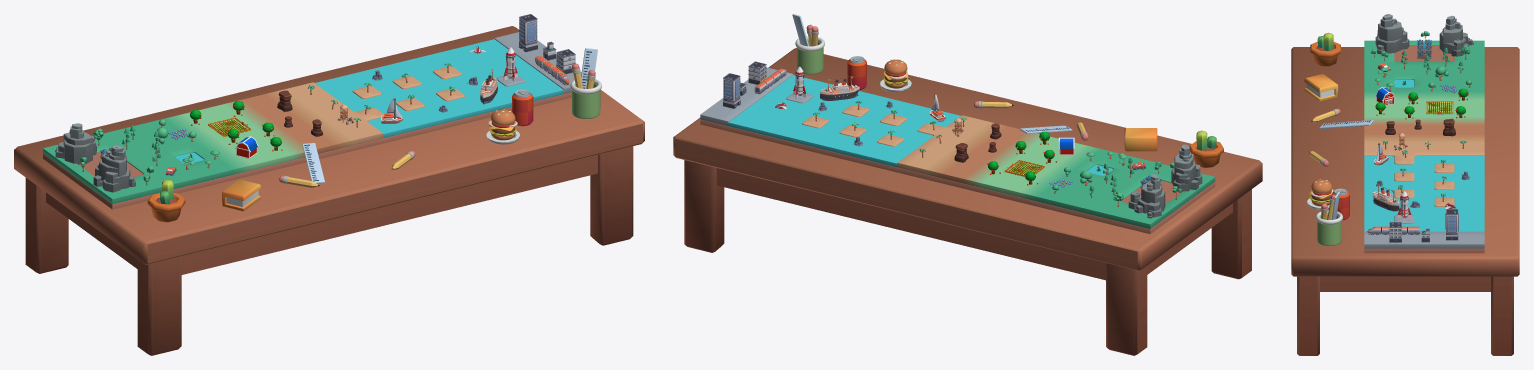
File: PortfolioPreview-transformed.glb
3 views of the same model, side by side, from view 1: azimuth 30°, elevation 25°; view 2: azimuth 150°, elevation 25°; view 3: azimuth 270°, elevation 25° (orthographic). The views are drawn at different scales.
Visible parts, largest first — view 1: cactus_small_B, square_forest_detail_(-3, 0, -12), Rock_1_J_Color1, Righe, Farm_House_Barn_01, square_forestToPlain_detail_(2, 0, -6), building-skyscraper-a, square_rockToSand_detail_(2, 0, -1), square_plainToRock_detail_(2, 0, -3), food_burger, ship-ocean-liner-small, Can_B (+2 smaller); view 2: cactus_small_B, square_forest_detail_(-3, 0, -12), Rock_1_J_Color1, Righe, Farm_House_Barn_01, square_forestToPlain_detail_(2, 0, -6), square_plainToRock_detail_(2, 0, -3), square_rockToSand_detail_(2, 0, -1), building-skyscraper-a, ship-ocean-liner-small, food_burger, Can_B (+2 smaller); view 3: cactus_small_B, square_forest_detail_(-3, 0, -12), Rock_1_J_Color1, Righe, Farm_House_Barn_01, square_rockToSand_detail_(2, 0, -1), square_plainToRock_detail_(2, 0, -3), building-skyscraper-a, square_forestToPlain_detail_(2, 0, -6), ship-ocean-liner-small, food_burger, palm-detailed-straight (+4 smaller).
Part boxes in pixels (bbox=[...]): cactus_small_B: bbox=[14, 26, 644, 355]; square_forest_detail_(-3, 0, -12): bbox=[43, 32, 581, 209]; Rock_1_J_Color1: bbox=[55, 119, 219, 192]; Righe: bbox=[279, 48, 601, 187]; Farm_House_Barn_01: bbox=[190, 101, 282, 158]; square_forestToPlain_detail_(2, 0, -6): bbox=[164, 114, 252, 174]; building-skyscraper-a: bbox=[519, 14, 575, 74]; square_rockToSand_detail_(2, 0, -1): bbox=[264, 89, 353, 150]; square_plainToRock_detail_(2, 0, -3): bbox=[224, 99, 305, 159]; food_burger: bbox=[486, 109, 520, 144]; ship-ocean-liner-small: bbox=[381, 69, 497, 123]; Can_B: bbox=[512, 89, 533, 126]; cactus_small_B: bbox=[673, 47, 1262, 355]; square_forest_detail_(-3, 0, -12): bbox=[700, 66, 1215, 233]; Rock_1_J_Color1: bbox=[1052, 144, 1202, 218]; Righe: bbox=[792, 14, 1088, 140]; Farm_House_Barn_01: bbox=[987, 131, 1074, 185]; square_forestToPlain_detail_(2, 0, -6): bbox=[1019, 145, 1102, 201]; square_plainToRock_detail_(2, 0, -3): bbox=[962, 133, 1040, 187]; square_rockToSand_detail_(2, 0, -1): bbox=[925, 122, 1008, 178]; building-skyscraper-a: bbox=[723, 61, 766, 108]; ship-ocean-liner-small: bbox=[820, 76, 945, 121]; food_burger: bbox=[880, 59, 911, 92]; Can_B: bbox=[847, 56, 866, 89]; cactus_small_B: bbox=[1291, 32, 1519, 355]; square_forest_detail_(-3, 0, -12): bbox=[1364, 40, 1484, 253]; Rock_1_J_Color1: bbox=[1371, 14, 1473, 91]; Righe: bbox=[1308, 108, 1373, 246]; Farm_House_Barn_01: bbox=[1375, 87, 1468, 119]; square_rockToSand_detail_(2, 0, -1): bbox=[1364, 134, 1484, 142]; square_plainToRock_detail_(2, 0, -3): bbox=[1364, 117, 1484, 125]; building-skyscraper-a: bbox=[1389, 209, 1458, 242]; square_forestToPlain_detail_(2, 0, -6): bbox=[1364, 91, 1484, 99]; ship-ocean-liner-small: bbox=[1372, 143, 1399, 211]; food_burger: bbox=[1307, 179, 1333, 209]; palm-detailed-straight: bbox=[1376, 133, 1469, 207].
Size of the model in its own units: 16.5 by 5.64 by 7.5.
20 materials, 20 textured.
